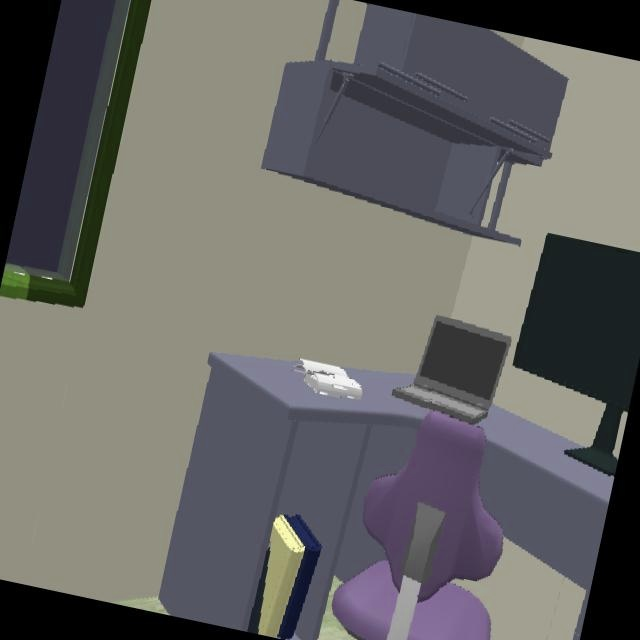book: (249, 514, 321, 639), (293, 360, 363, 400)
cabinet: (262, 3, 566, 244)
chair: (334, 412, 503, 640)
laptop: (393, 316, 510, 423)
monitor: (512, 234, 640, 474)
table: (159, 353, 426, 640), (479, 406, 613, 640)
